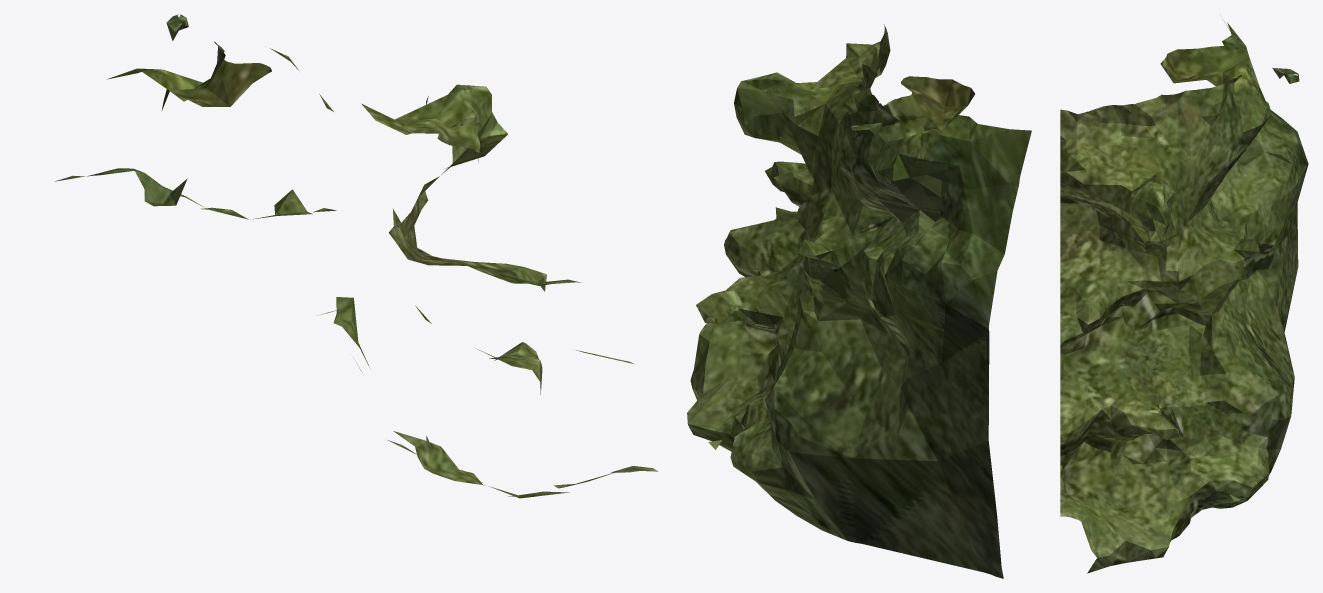
3 views of the same model, side by side, from view 1: azimuth 30°, elevation 25°; view 2: azimuth 150°, elevation 25°; view 3: azimuth 270°, elevation 25° (orthographic). The views are drawn at different scales.
Size of the model in its own units: 2.95 by 2.95 by 1.71.
Materials: 3 (3 with a texture image).
